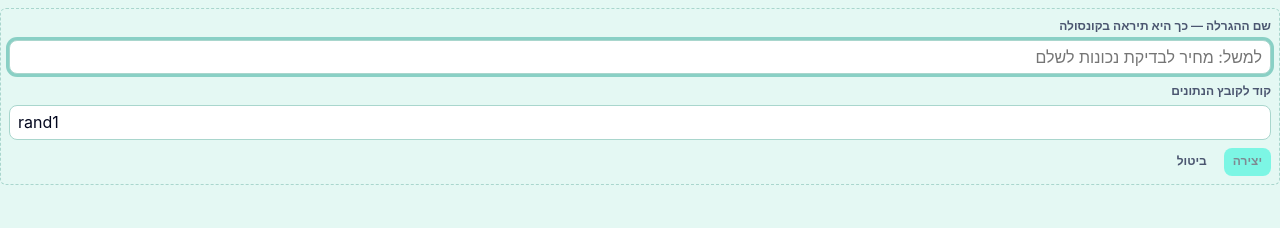
Test case: DefineForm › refuses a code another variable already holds
In the field labelled "שם ההגרלה — כך היא תיראה בקונסולה": (640, 57) [9,40,1271,74], type "מחיר"
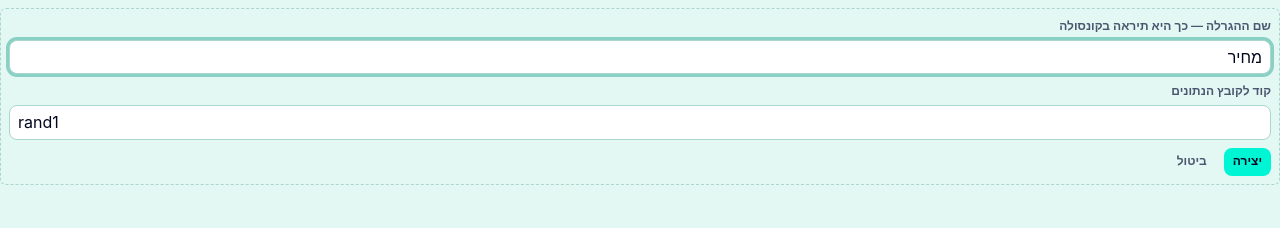
Replace the text in the field labelled "קוד לקובץ הנתונים" with "price": (640, 122) [9,105,1271,140]
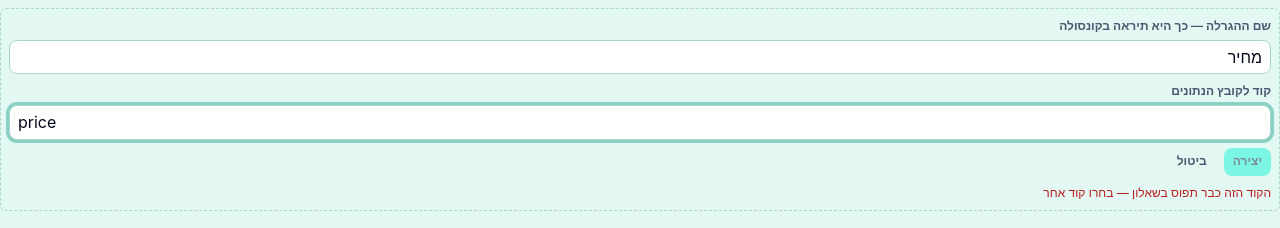
Now the button "יצירה" is disabled, box [1224,148,1271,176]
Now the text "הקוד הזה כבר תפוס בשאלון — בחרו קוד אחר" is shown, box [1043,185,1271,200]
